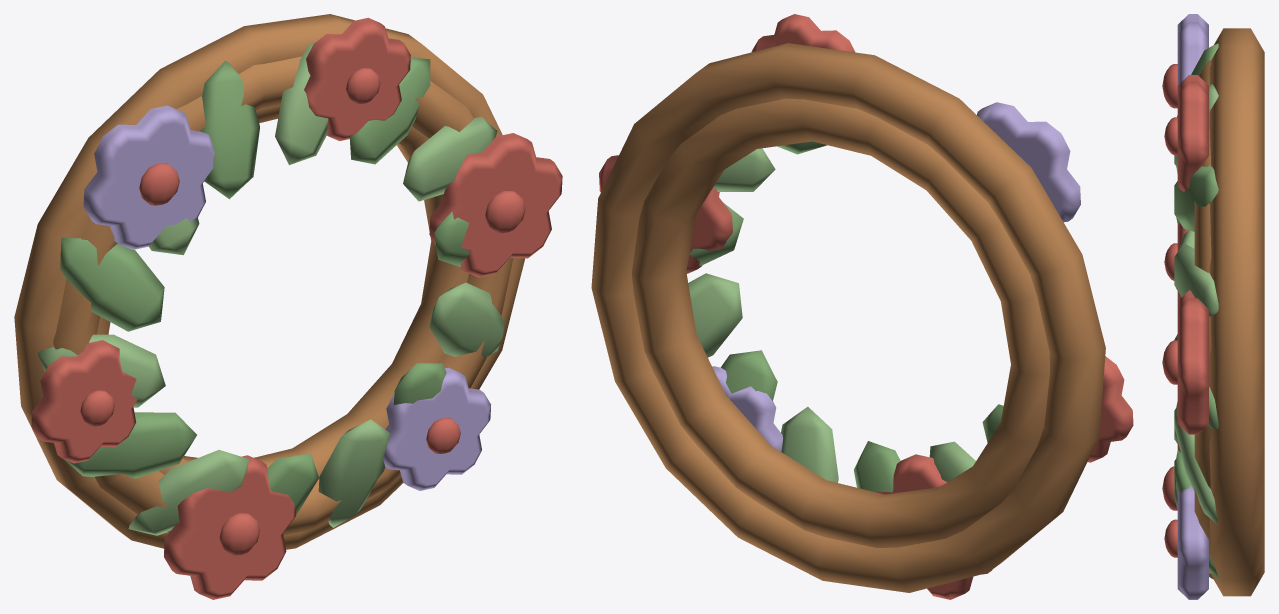
Rendered from dark_rose_wreath.glb.
The picture shows the model from 3 angles, left to right: view 1: azimuth 30°, elevation 25°; view 2: azimuth 150°, elevation 25°; view 3: azimuth 270°, elevation 25°; orthographic projection. The views are drawn at different scales.
Parts seen in each view (by area): view 1: dark_rose_wreath_mesh; view 2: dark_rose_wreath_mesh; view 3: dark_rose_wreath_mesh.
Part boxes in pixels (x1,y1,x2,y2): dark_rose_wreath_mesh: [14, 14, 562, 599]; dark_rose_wreath_mesh: [591, 14, 1133, 599]; dark_rose_wreath_mesh: [1162, 14, 1264, 599].
Bounding box in the file's own units: 0.4788 × 0.4698 × 0.0818.
